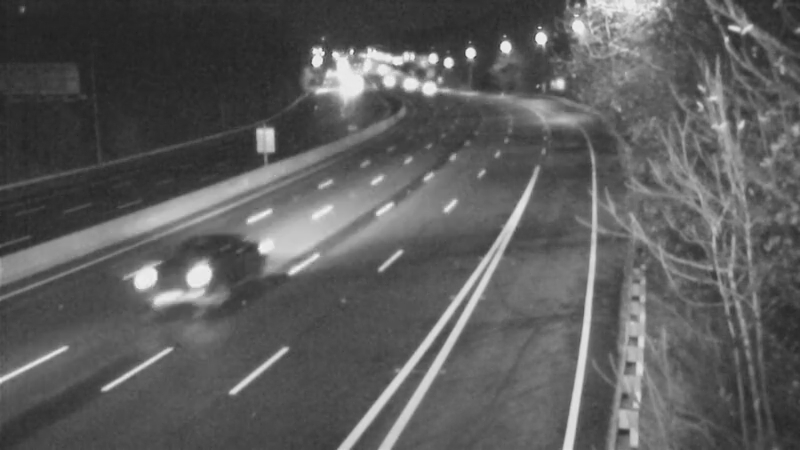vehicle: (150, 229, 230, 309), (362, 57, 412, 107), (386, 60, 436, 110), (403, 62, 453, 112)
